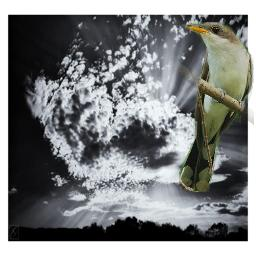Cuckoo: (179, 22, 254, 192)
